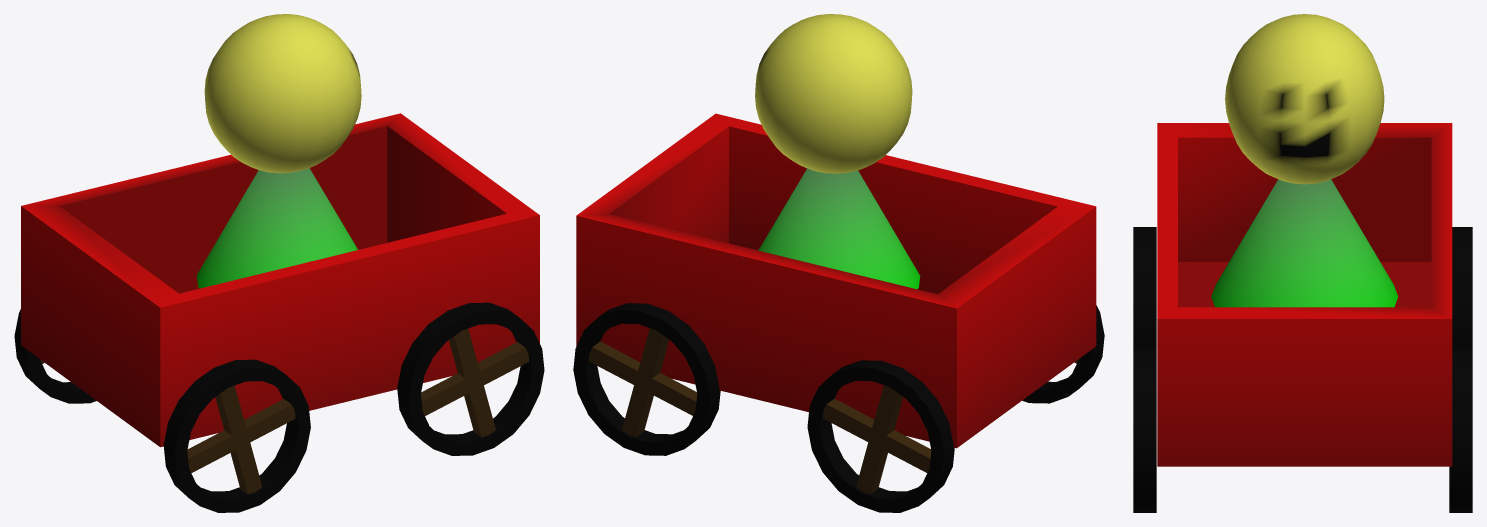
File: cart5.fbx
The picture shows the model from 3 angles, left to right: view 1: azimuth 30°, elevation 25°; view 2: azimuth 150°, elevation 25°; view 3: azimuth 270°, elevation 25°; orthographic projection. The views are drawn at different scales.
Visible parts, largest first — view 1: cart, pSphere1, wheel1, wheel, pCone1, wheel2; view 2: cart, pSphere1, wheel2, wheel3, pCone1, wheel1; view 3: cart, pSphere1, pCone1, wheel, wheel3, wheel1, wheel2.
Boxes of the visible parts, <box> form: cart: <box>21,113,539,447</box>; pSphere1: <box>204,14,361,173</box>; wheel1: <box>163,359,310,512</box>; wheel: <box>397,302,544,455</box>; pCone1: <box>196,168,357,288</box>; wheel2: <box>14,309,96,403</box>; cart: <box>576,113,1096,448</box>; pSphere1: <box>755,14,912,173</box>; wheel2: <box>807,360,954,512</box>; wheel3: <box>573,303,720,455</box>; pCone1: <box>758,168,920,288</box>; wheel1: <box>1022,305,1104,403</box>; cart: <box>1157,123,1452,466</box>; pSphere1: <box>1225,14,1384,184</box>; pCone1: <box>1211,179,1398,307</box>; wheel: <box>1133,347,1156,512</box>; wheel3: <box>1449,347,1472,512</box>; wheel1: <box>1133,227,1156,347</box>; wheel2: <box>1452,227,1472,347</box>.
Bounding box in the file's own units: 2.85 × 2.88 × 2.08.
